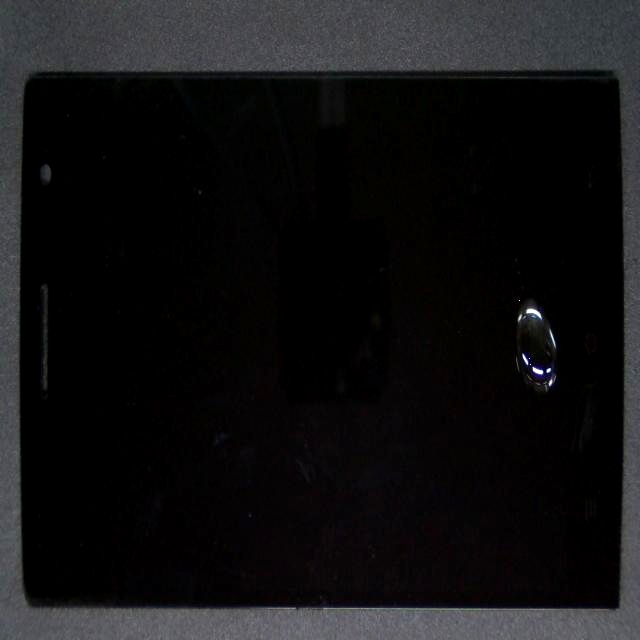oil: (242, 145, 640, 542)
